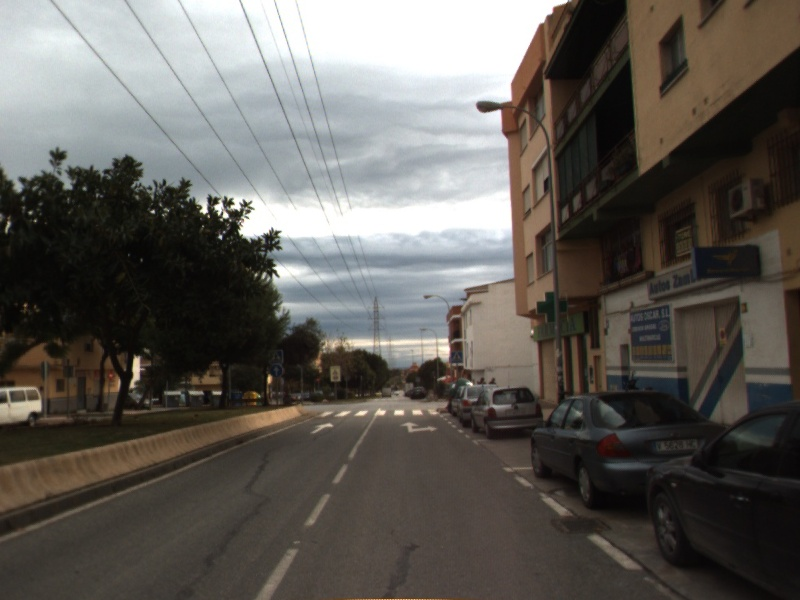STRAIGHT: (308, 421, 336, 435)
STRAIGHT_RIGHT: (398, 420, 440, 435)
